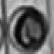correct: (9, 5, 49, 52)
